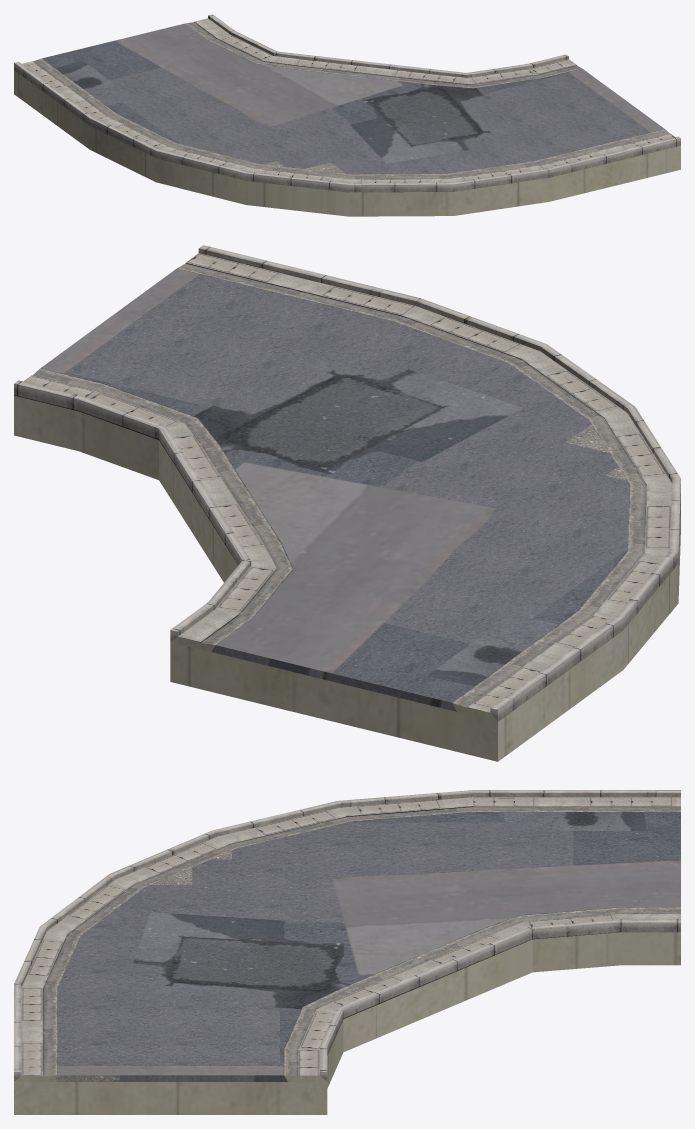
Rendered from road_c1_curve1_r2.fbx.
3 views of the same model, one above another, from view 1: azimuth 30°, elevation 25°; view 2: azimuth 150°, elevation 25°; view 3: azimuth 270°, elevation 25° (orthographic). The views are drawn at different scales.
Visible parts, largest first — view 1: road_c1_curve1r2; view 2: road_c1_curve1r2; view 3: road_c1_curve1r2.
Part boxes in pixels (left/top/right/bottom): road_c1_curve1r2: left=14, top=14, right=680, bottom=216; road_c1_curve1r2: left=14, top=245, right=680, bottom=761; road_c1_curve1r2: left=14, top=790, right=680, bottom=1114.
Bounding box in the file's own units: 915 × 65 × 915.
